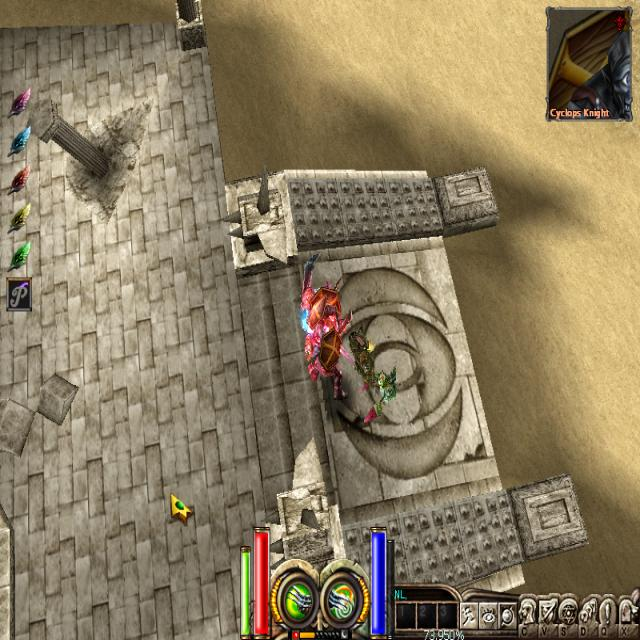monster: (306, 334, 346, 400), (304, 295, 332, 340), (350, 328, 376, 374), (377, 371, 398, 408), (366, 338, 374, 352)
